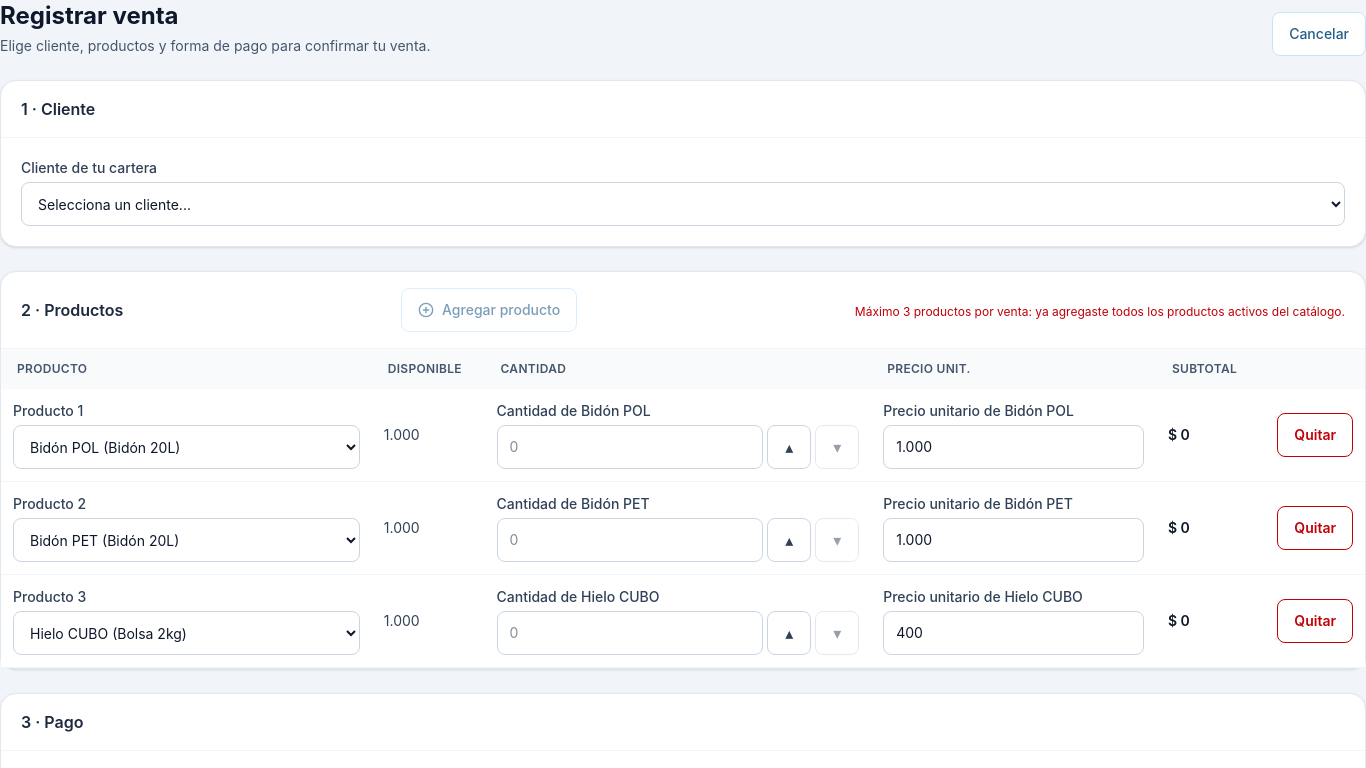
Test case: UX-05 · si falla el resumen conserva folio y cliente y reintenta sólo la lectura
Expected: the heading "Registrar venta" is shown, [0, 1, 178, 30]
Select "Doña María" in the dropdown labelled "Cliente de tu cartera" at (683, 204), box [21, 182, 1345, 226]
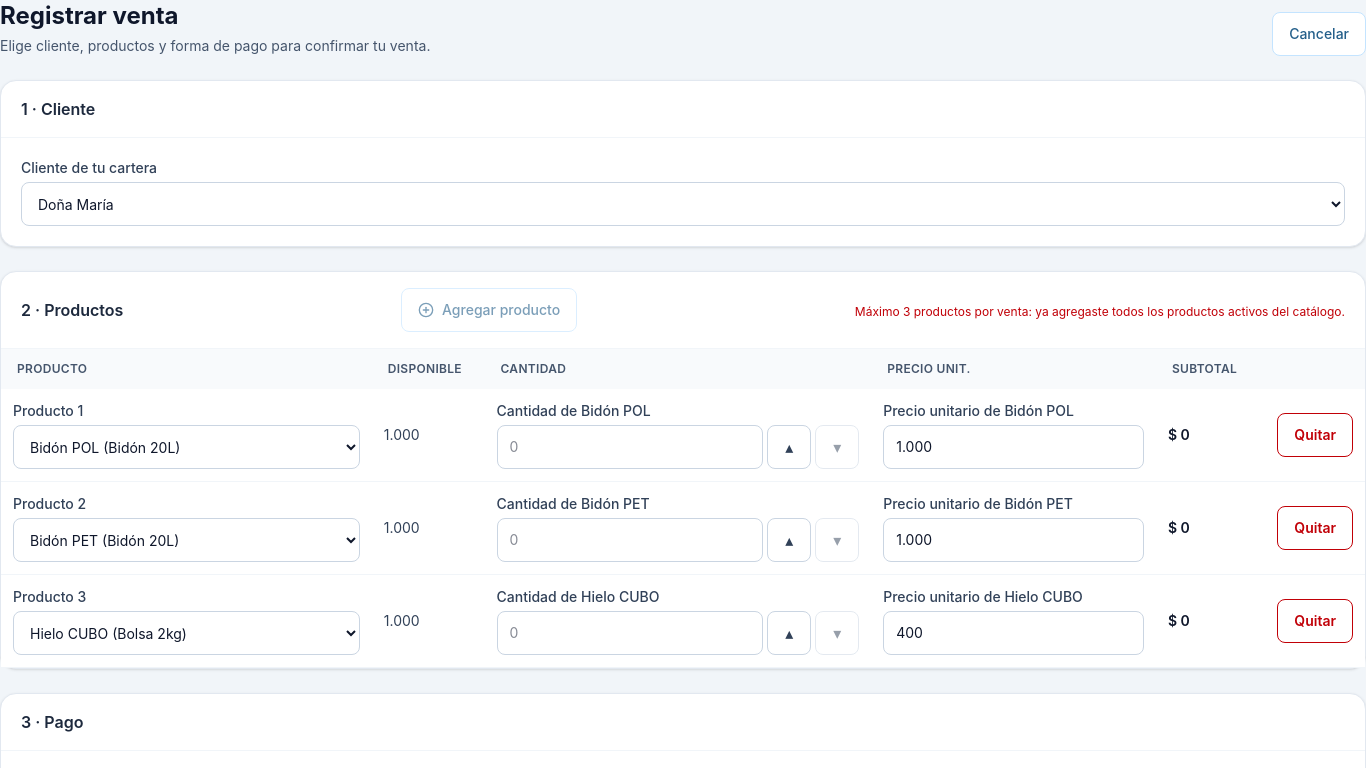
Type "2" into the field labelled "Cantidad de Bidón POL".
click(630, 447); type("2")  # box [496, 425, 763, 469]
(page scrolled)
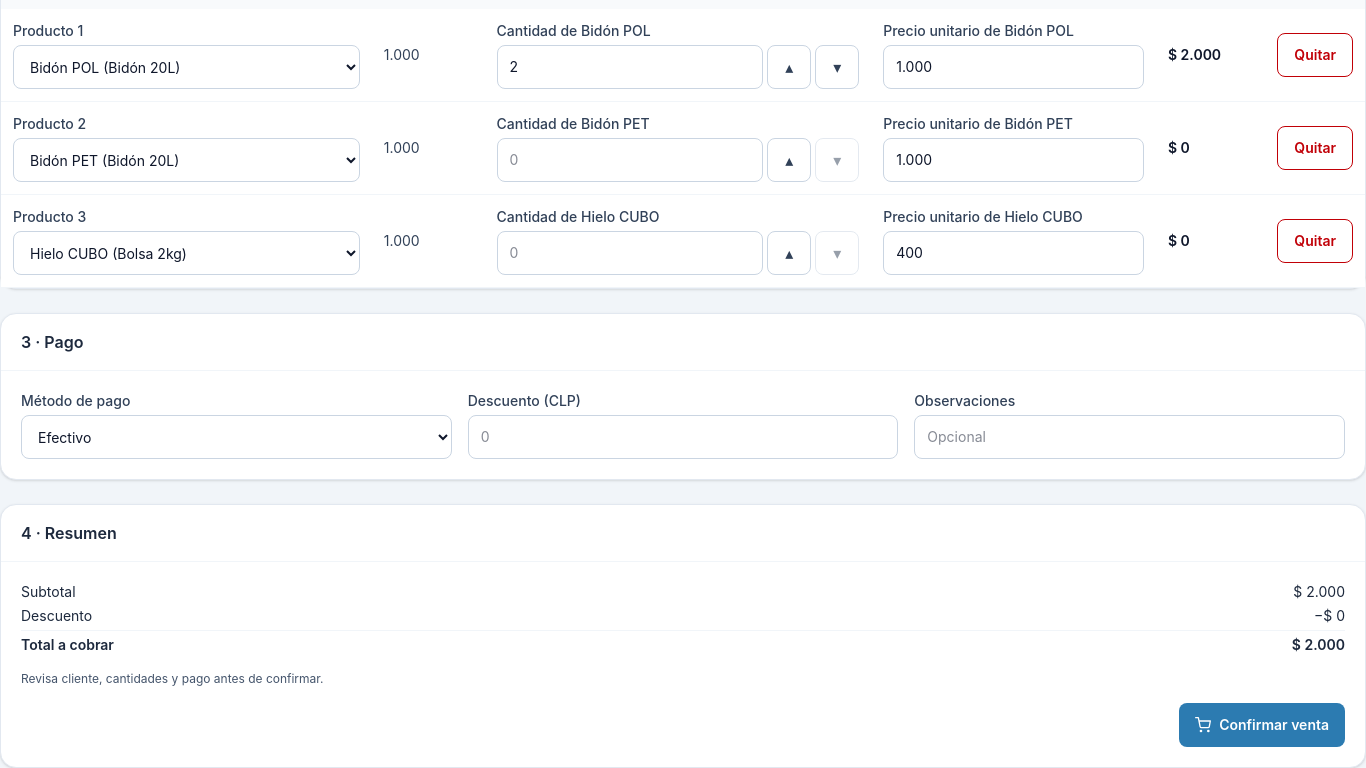
Click the button "Confirmar venta".
click(1262, 725)  # box [1179, 703, 1345, 747]
(page scrolled)
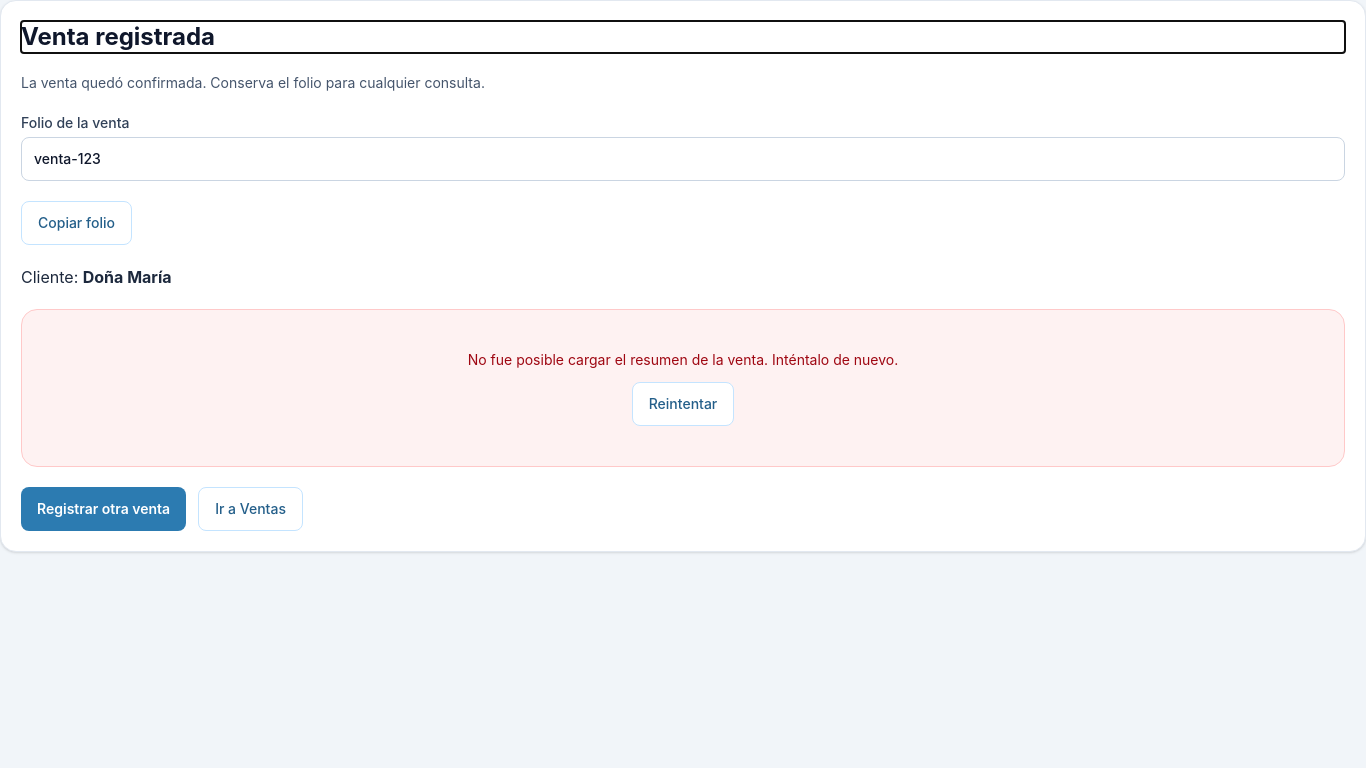
Now the message "No fue posible cargar el resumen de la venta. Inténtalo de nuevo. Reintentar" is shown, box [21, 309, 1345, 467]
Now the field labelled "Folio de la venta" holds "venta-123", box [21, 137, 1345, 181]
Now the text "Doña María" is shown, box [83, 267, 172, 287]
Click the button "Reintentar".
click(683, 404)  # box [632, 382, 734, 426]
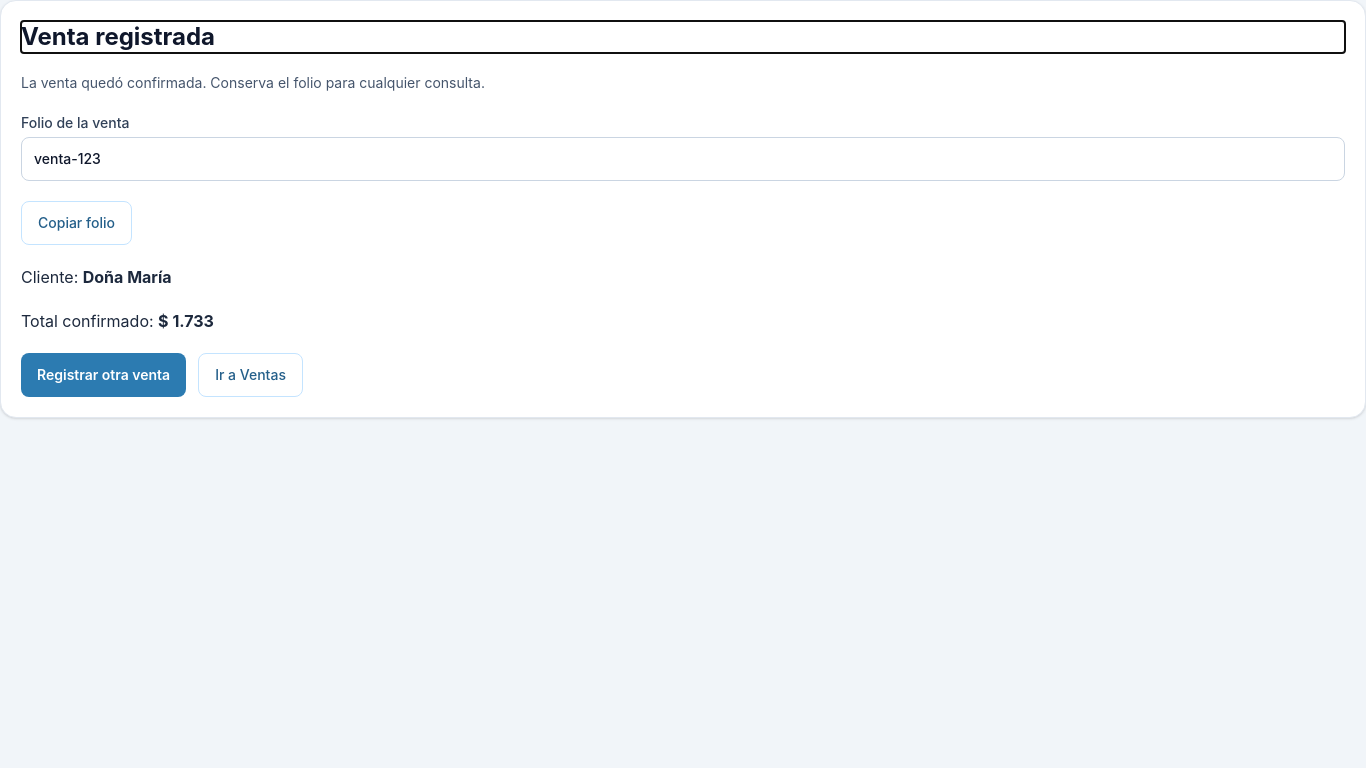
Now the text "$ 1.733" is shown, box [158, 311, 214, 331]
Click the button "Registrar otra venta".
click(104, 375)  # box [21, 353, 186, 397]
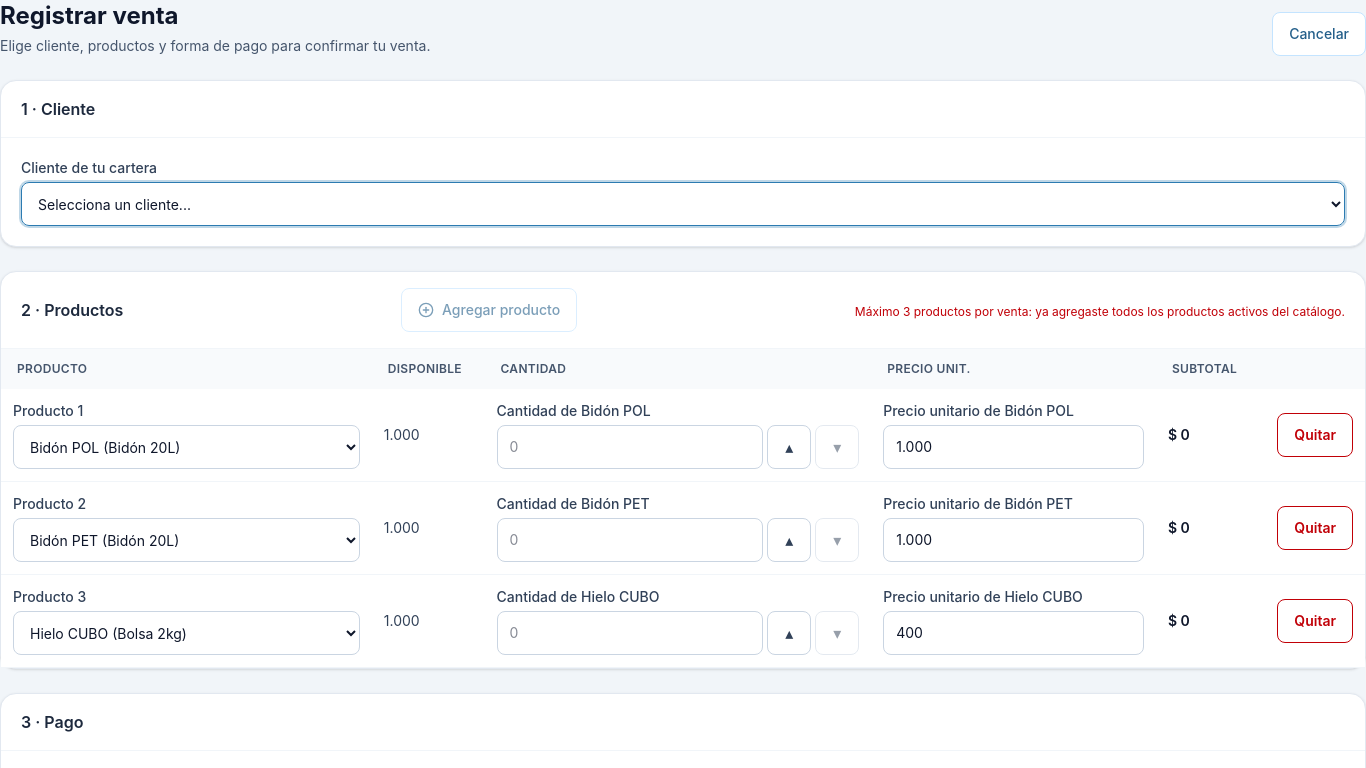
Now the heading "Registrar venta" is shown, box [0, 1, 178, 30]
Now the dropdown labelled "Cliente de tu cartera" shows "Selecciona un cliente...", box [21, 182, 1345, 226]
Now the field labelled "Cantidad de Bidón POL" is empty, box [496, 425, 763, 469]
